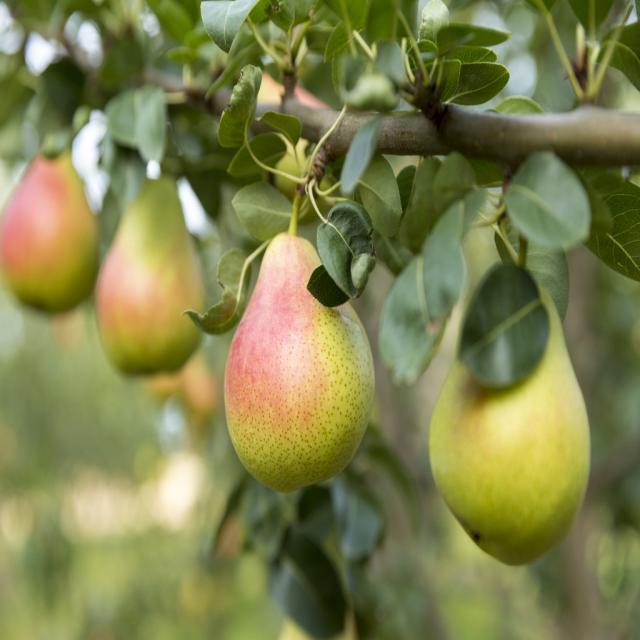Pear: (429, 281, 595, 567), (224, 232, 376, 494), (94, 170, 207, 379), (0, 153, 102, 314)
